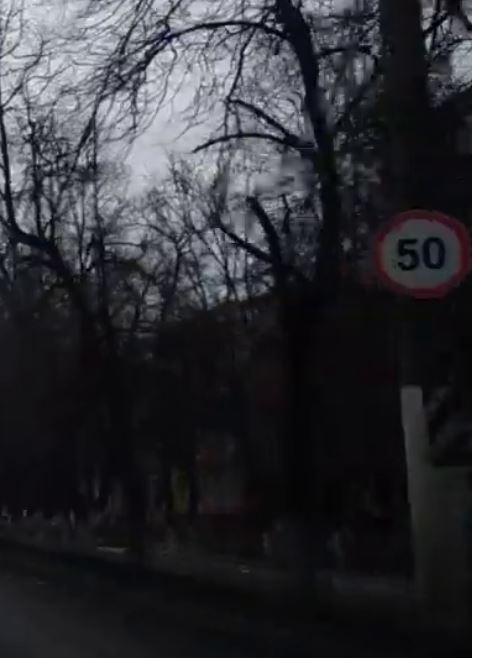50 Km Hiz Siniri: (372, 209, 471, 294)
